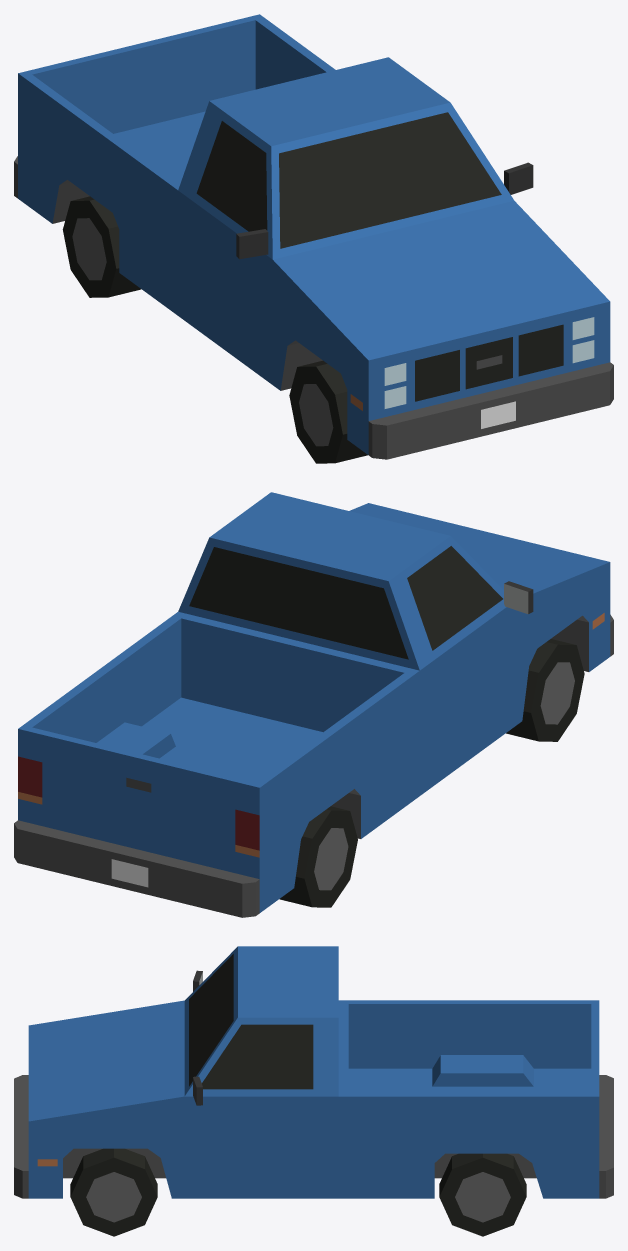
The model's file is Veh_Pickup_02_Blue.obj.
3 renders of one model, top to bottom at view 1: azimuth 30°, elevation 25°; view 2: azimuth 150°, elevation 25°; view 3: azimuth 270°, elevation 25°, orthographic. The views are drawn at different scales.
Size of the model in its own units: 1.43 by 1.18 by 3.11.
